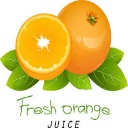orange: (15, 12, 72, 81)
